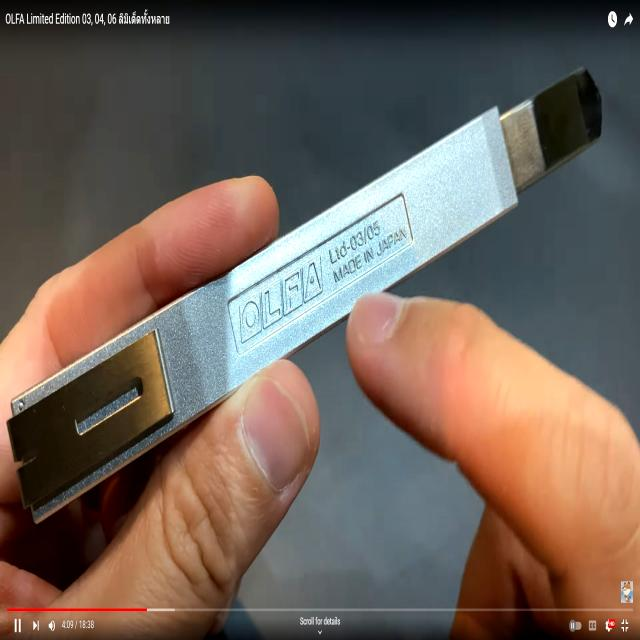cutter: (0, 47, 616, 603)
